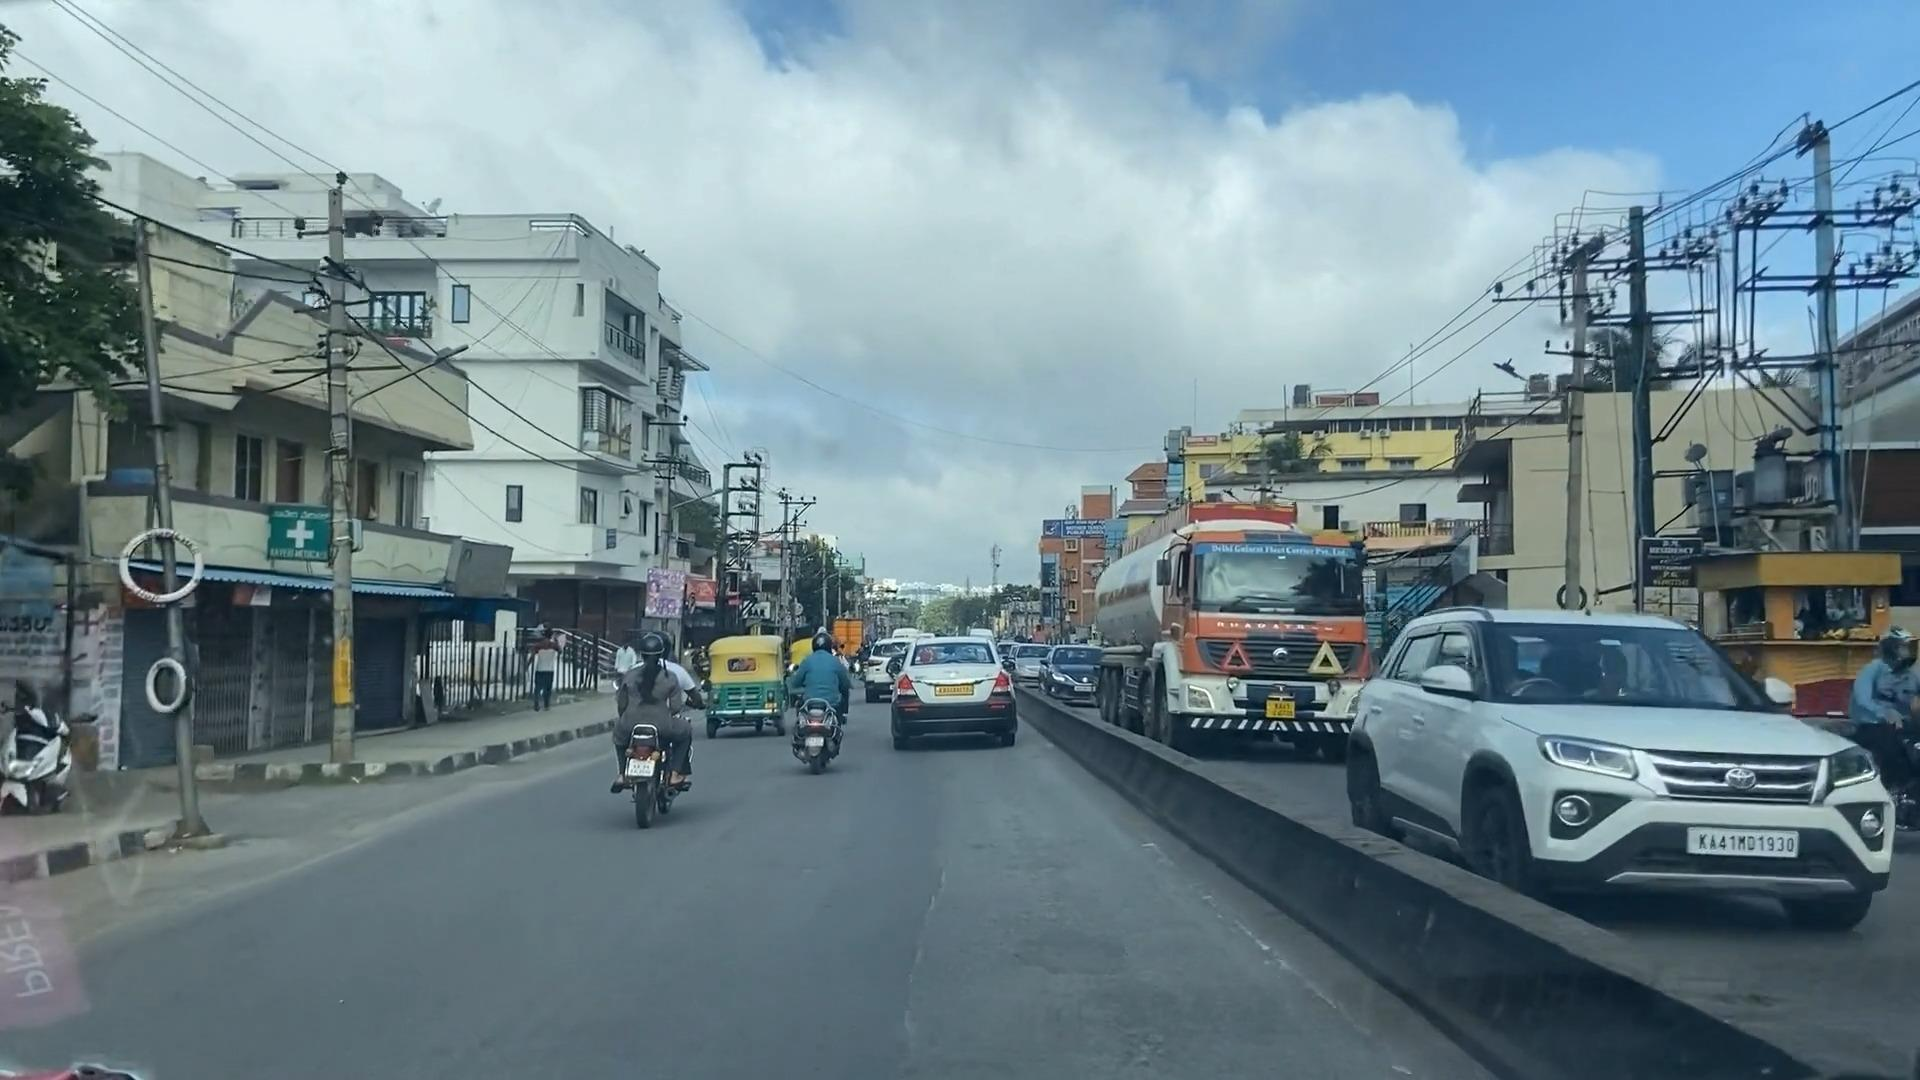LMV: (615, 645, 695, 839), (893, 640, 1015, 749), (712, 632, 771, 742), (794, 654, 848, 762)
UnsurfacedRoad: (880, 818, 982, 1080)
